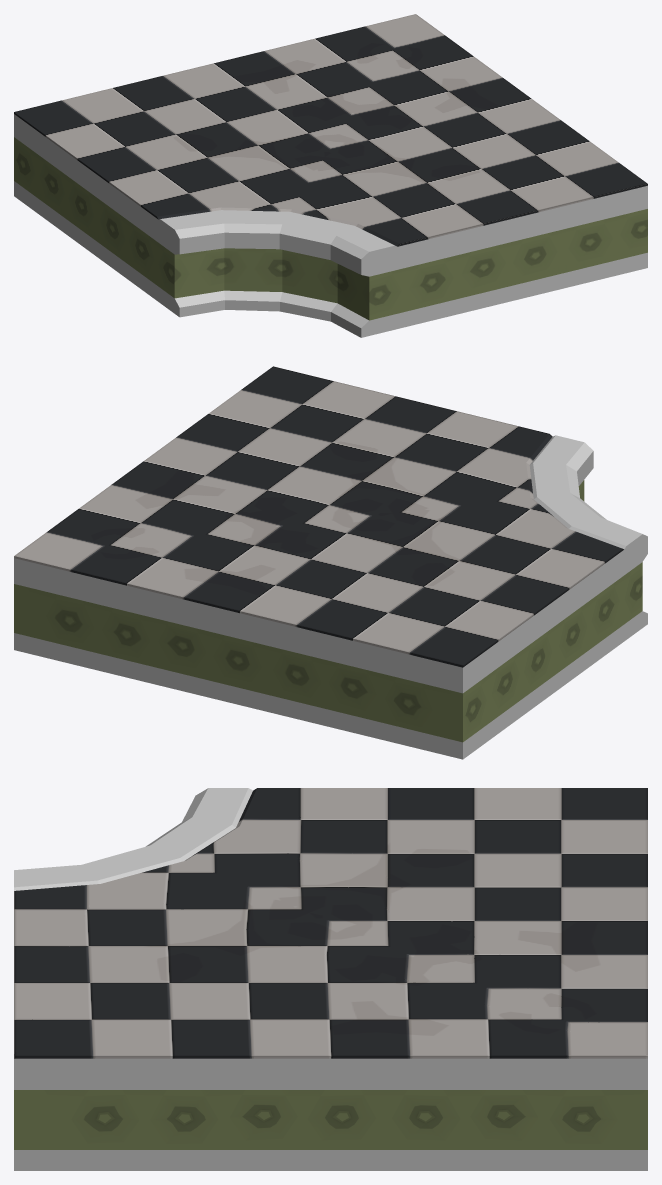
The model's file is SM_Prop_Platform_02_Corner_R_02.fbx.
3 renders of one model, top to bottom at view 1: azimuth 30°, elevation 25°; view 2: azimuth 150°, elevation 25°; view 3: azimuth 270°, elevation 25°, orthographic. The views are drawn at different scales.
Visible parts, largest first — view 1: SM_Prop_Platform_02_Corner_R_02; view 2: SM_Prop_Platform_02_Corner_R_02; view 3: SM_Prop_Platform_02_Corner_R_02.
Part boxes in pixels (<box>): SM_Prop_Platform_02_Corner_R_02: <box>14,14,647,337</box>; SM_Prop_Platform_02_Corner_R_02: <box>14,366,647,759</box>; SM_Prop_Platform_02_Corner_R_02: <box>14,788,647,1170</box>.
Bounding box in the file's own units: 250 × 50 × 250.
